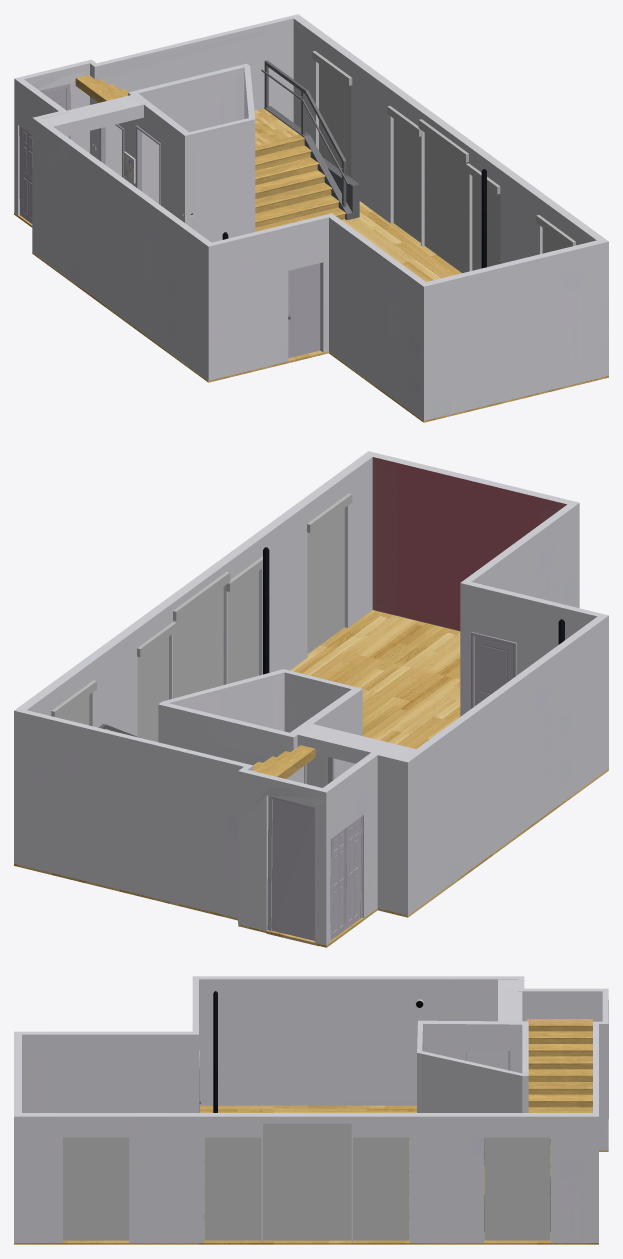
File: Stage_v3_sc0_staging.glb
3 views of the same model, one above another, from view 1: azimuth 30°, elevation 25°; view 2: azimuth 150°, elevation 25°; view 3: azimuth 270°, elevation 25° (orthographic). The views are drawn at different scales.
Visible parts, largest first — view 1: frl_apartment_wall_arch, frl_apartment_blinds.001, frl_apartment_stair.001, frl_apartment_floor.001, frl_apartment_door_01.001, frl_apartment_door_05.001, frl_apartment_pipe.001, frl_apartment_door_part.005; view 2: frl_apartment_wall_arch, frl_apartment_blinds.001, frl_apartment_floor.001, frl_apartment_door_04.001, frl_apartment_door_01.001, frl_apartment_door_05.001, frl_apartment_door_06.001, frl_apartment_stair.001, frl_apartment_pipe.001, frl_apartment_door_part.003; view 3: frl_apartment_wall_arch, frl_apartment_blinds.001, frl_apartment_stair.001, frl_apartment_floor.001, frl_apartment_pipe.001.
Part boxes in pixels (x1,y1,x2,y2): frl_apartment_wall_arch: (14,14,608,420); frl_apartment_blinds.001: (312,51,575,273); frl_apartment_stair.001: (75,60,359,231); frl_apartment_floor.001: (14,201,608,422); frl_apartment_door_01.001: (288,263,319,358); frl_apartment_door_05.001: (21,127,32,223); frl_apartment_pipe.001: (222,169,486,268); frl_apartment_door_part.005: (136,125,160,205); frl_apartment_wall_arch: (14,451,608,945); frl_apartment_blinds.001: (51,493,352,741); frl_apartment_floor.001: (14,610,608,947); frl_apartment_door_04.001: (271,799,314,940); frl_apartment_door_01.001: (474,636,513,705); frl_apartment_door_05.001: (330,828,346,939); frl_apartment_door_06.001: (346,817,361,928); frl_apartment_stair.001: (98,724,315,778); frl_apartment_pipe.001: (263,547,564,674); frl_apartment_door_part.003: (266,796,318,946); frl_apartment_wall_arch: (14,976,608,1242); frl_apartment_blinds.001: (63,1123,550,1240); frl_apartment_stair.001: (484,1019,592,1231); frl_apartment_floor.001: (14,1105,608,1244); frl_apartment_pipe.001: (213,991,217,1112).
Bounding box in the file's own units: 7.26 × 3.13 × 13.
10 materials, 9 textured.
